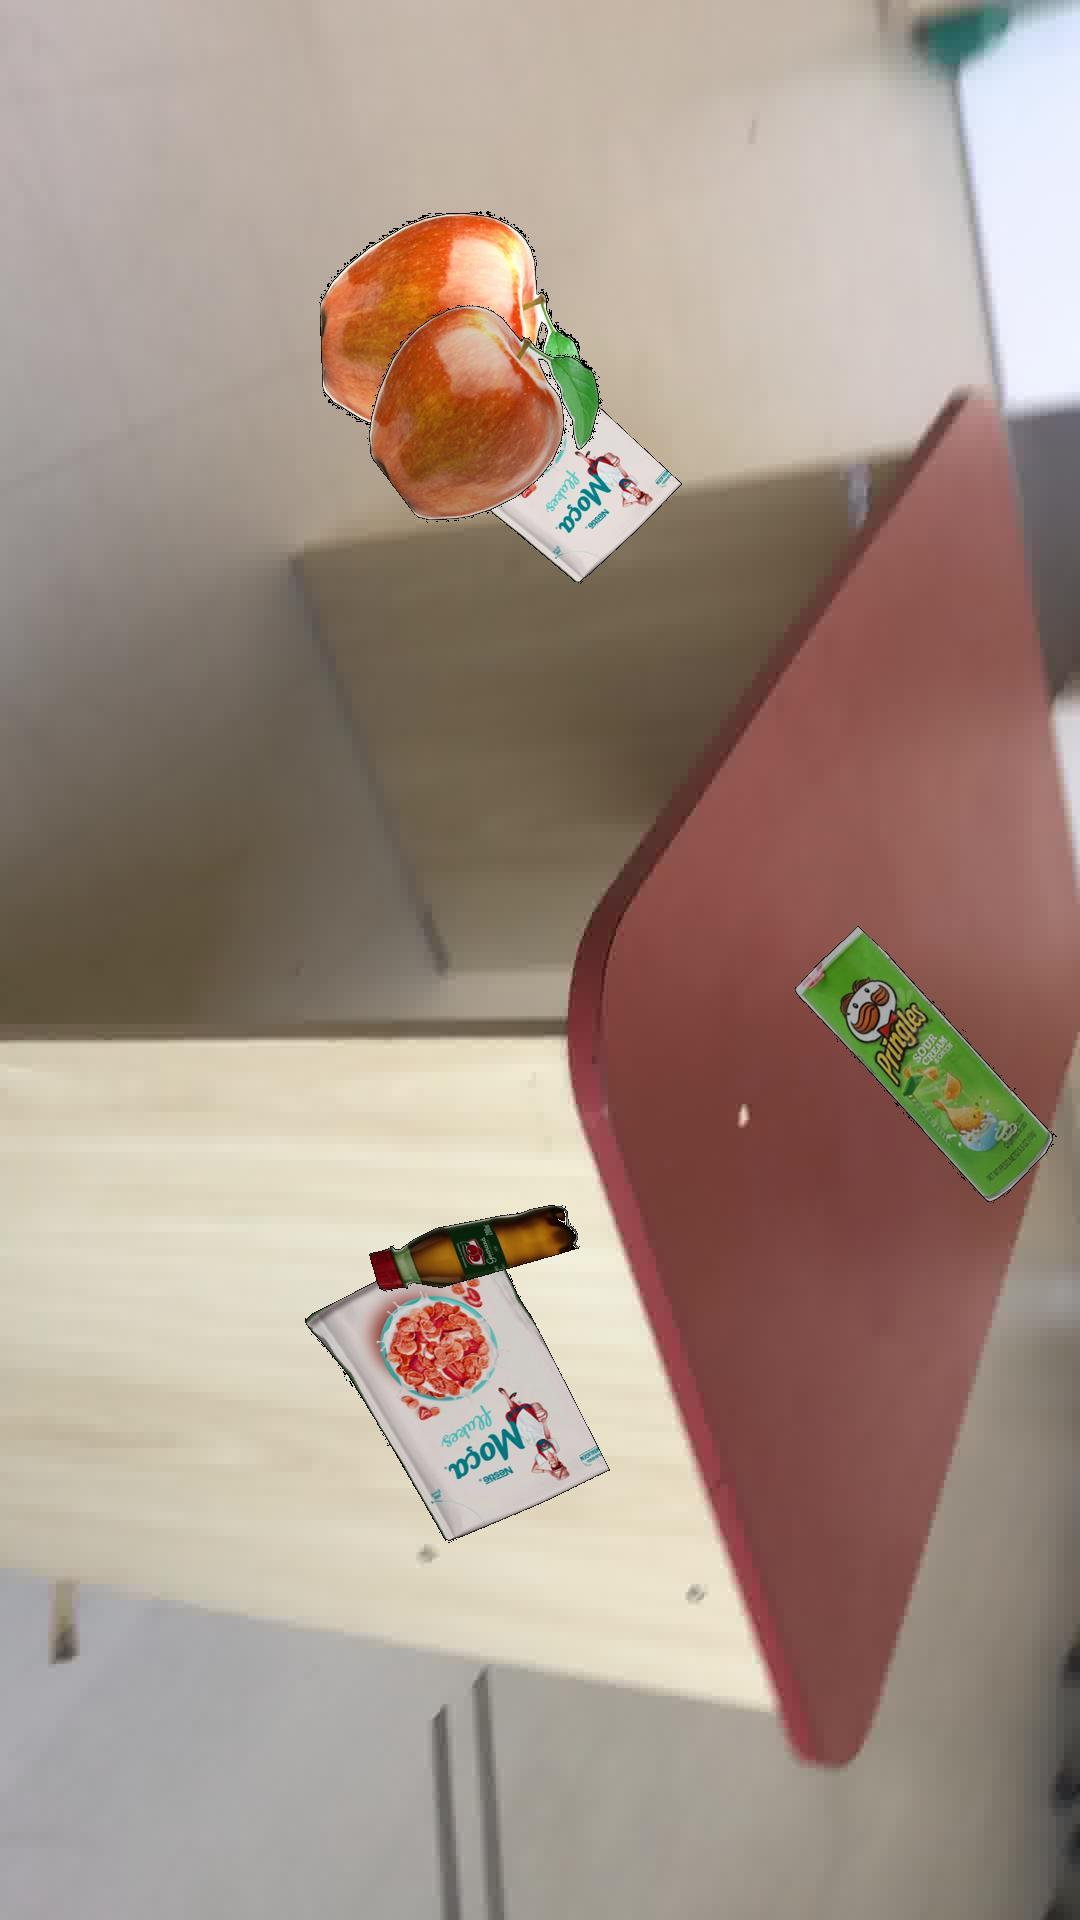apple: (319, 210, 585, 422), (368, 303, 600, 518)
corn flakes: (303, 1269, 608, 1539), (488, 359, 680, 582)
guarana: (368, 1204, 578, 1290)
pringles: (794, 924, 1054, 1200)
